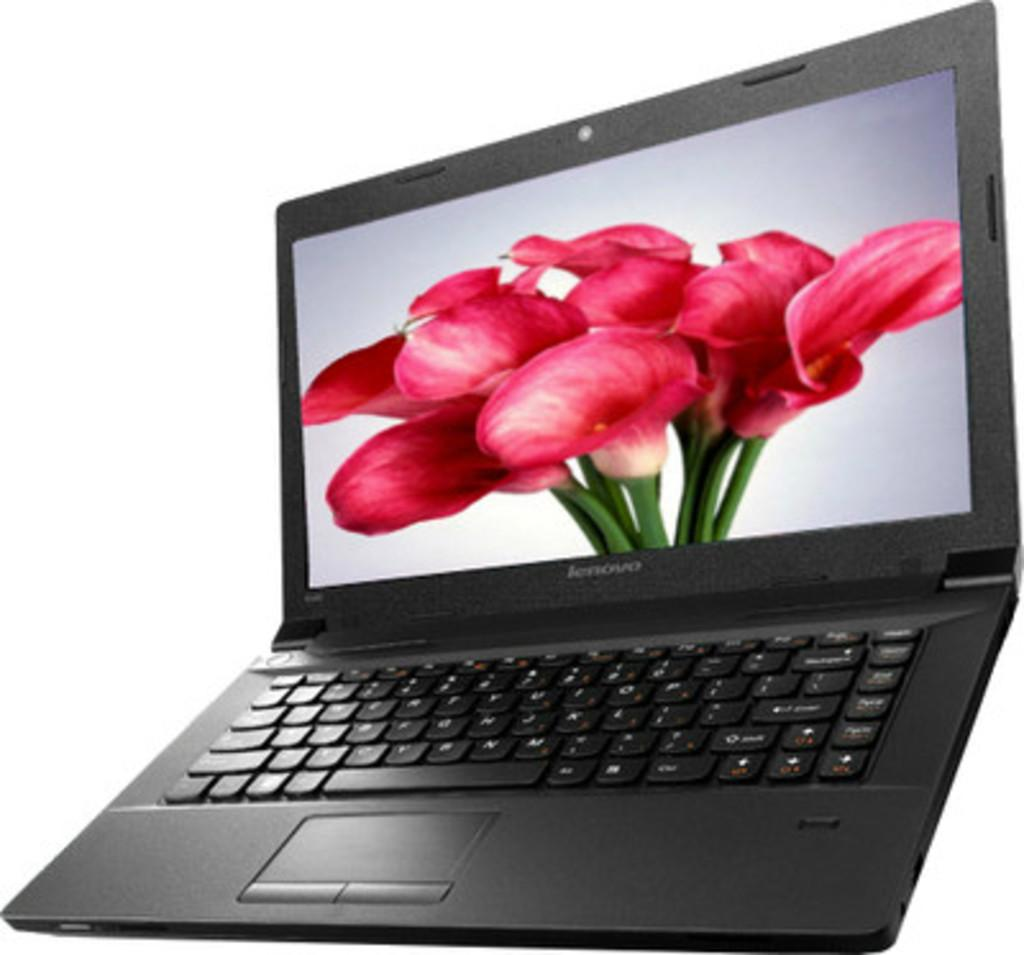Computer-keyboard: (161, 622, 924, 801)
Laptop: (67, 38, 991, 955)
